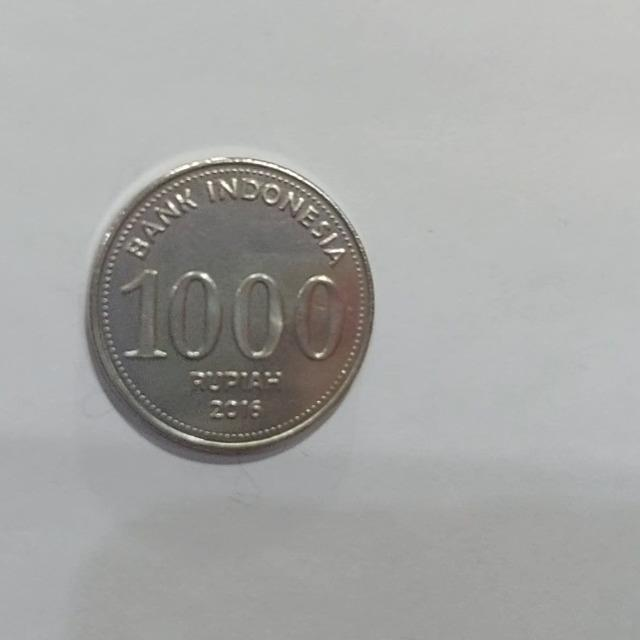Rp100: (83, 152, 376, 463)
